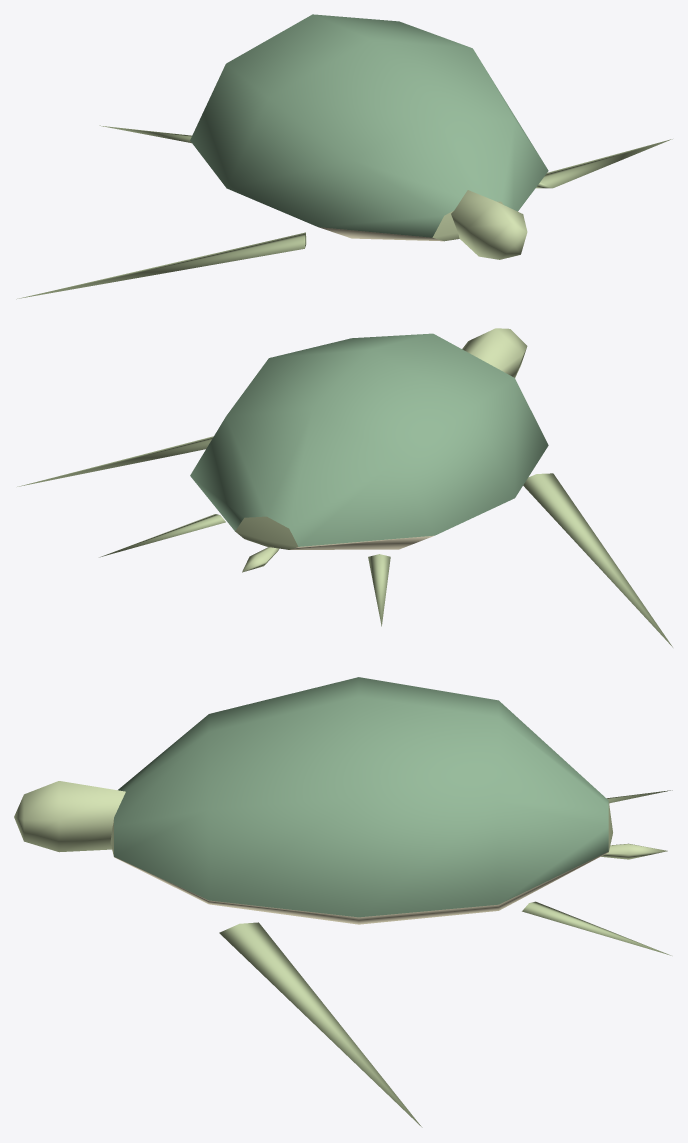
The model's file is turtle_far.glb.
3 renders of one model, top to bottom at view 1: azimuth 30°, elevation 25°; view 2: azimuth 150°, elevation 25°; view 3: azimuth 270°, elevation 25°, orthographic. The views are drawn at different scales.
Parts seen in each view (by area): view 1: turtle_far; view 2: turtle_far; view 3: turtle_far.
Boxes of the visible parts, bbox=[...] form: turtle_far: bbox=[16, 14, 672, 299]; turtle_far: bbox=[17, 328, 672, 647]; turtle_far: bbox=[14, 677, 672, 1127].
Bounding box in the file's own units: 1.83 × 0.5267 × 1.32.
